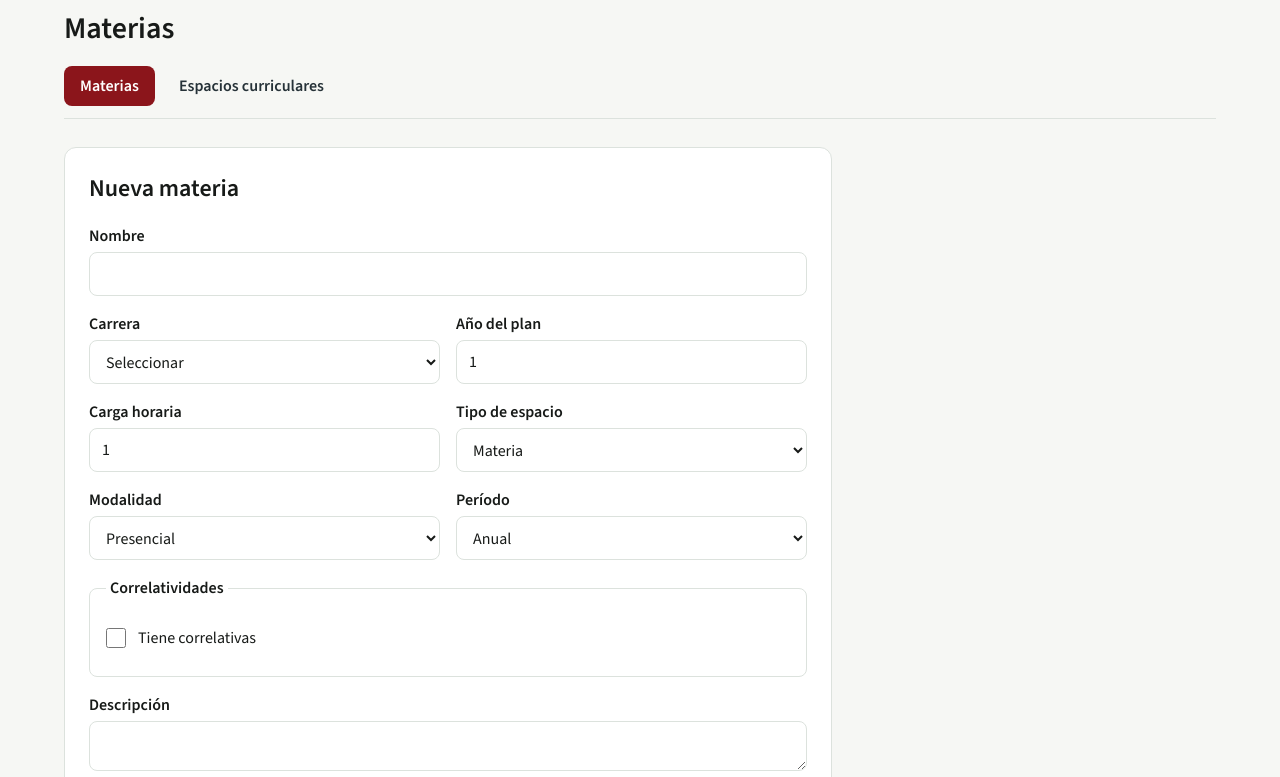
Scenario: AdminSubjectsView correlativity selector › adds Materia and Espacio curricular requirements through one name selector
expect the checkbox labelled "Tiene correlativas" is not checked: met, box [106, 628, 126, 648]
Select "Profesorado de Inicial" in the dropdown labelled "Carrera": (264, 362) [89, 340, 440, 384]
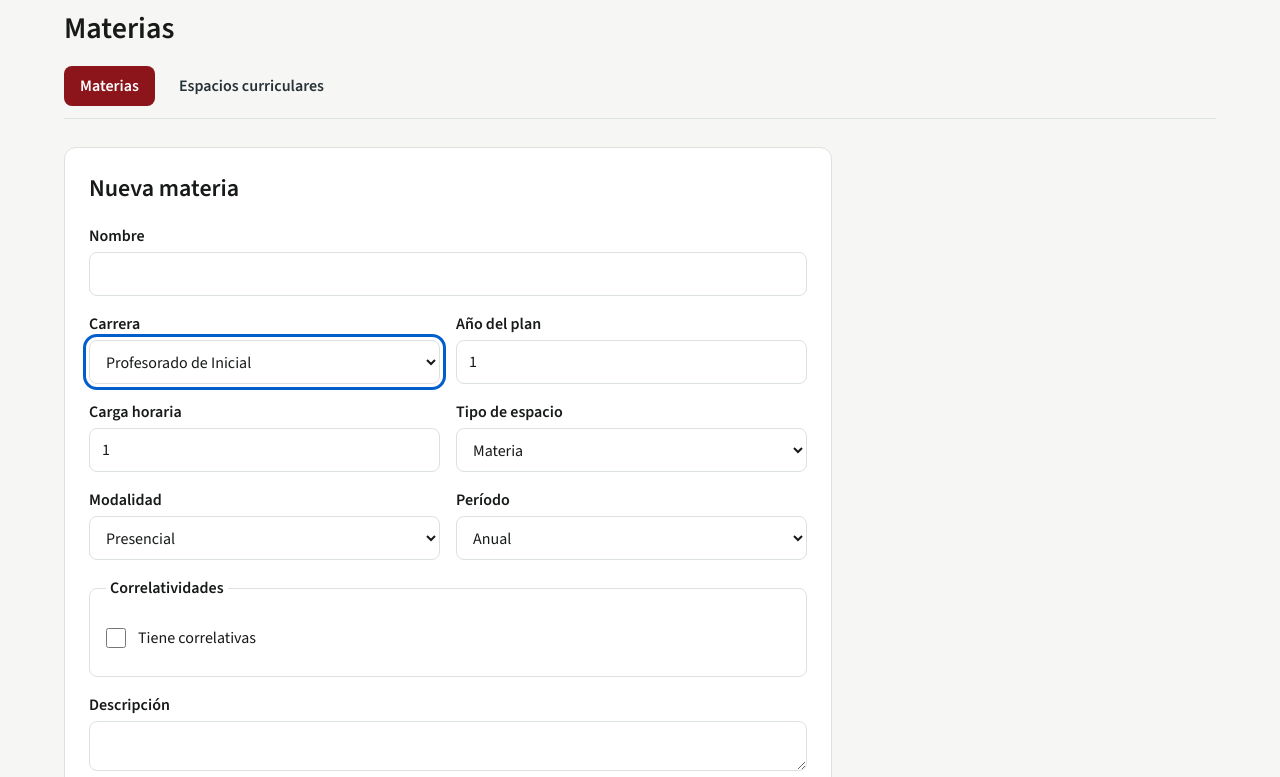
Click the checkbox labelled "Tiene correlativas": (116, 638) [106, 628, 126, 648]
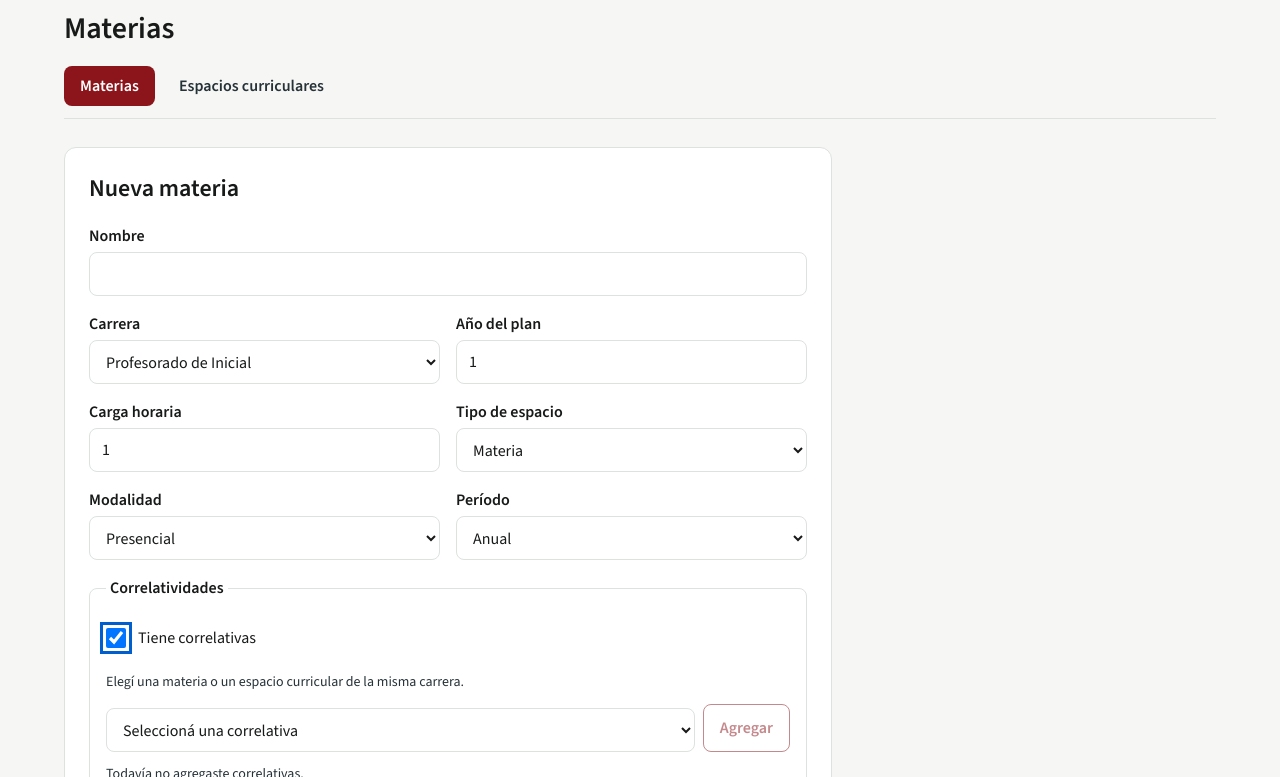
expect the dropdown named "Correlativa" shows "Seleccioná una correlativa": met
Select "Pedagogía" in the dropdown named "Correlativa": (400, 730) [106, 708, 695, 752]
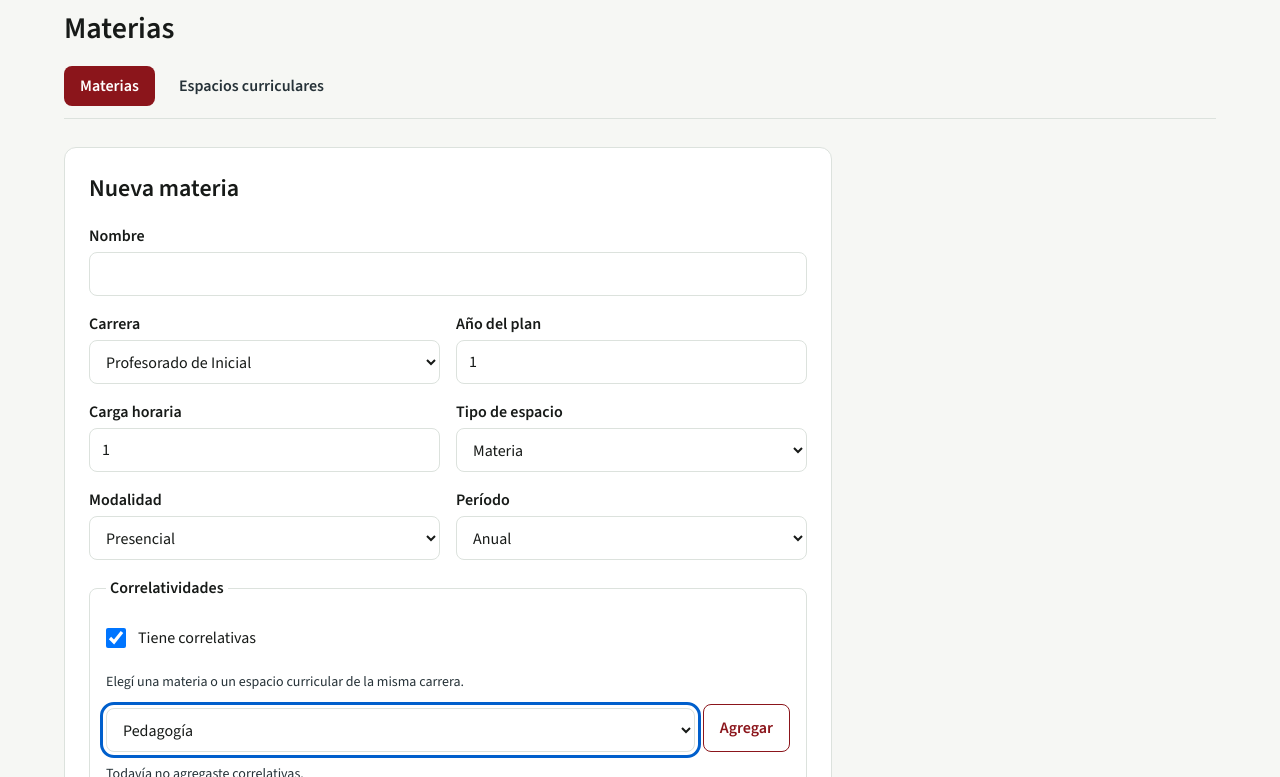
Click the button "Agregar": (746, 728) [703, 704, 790, 752]
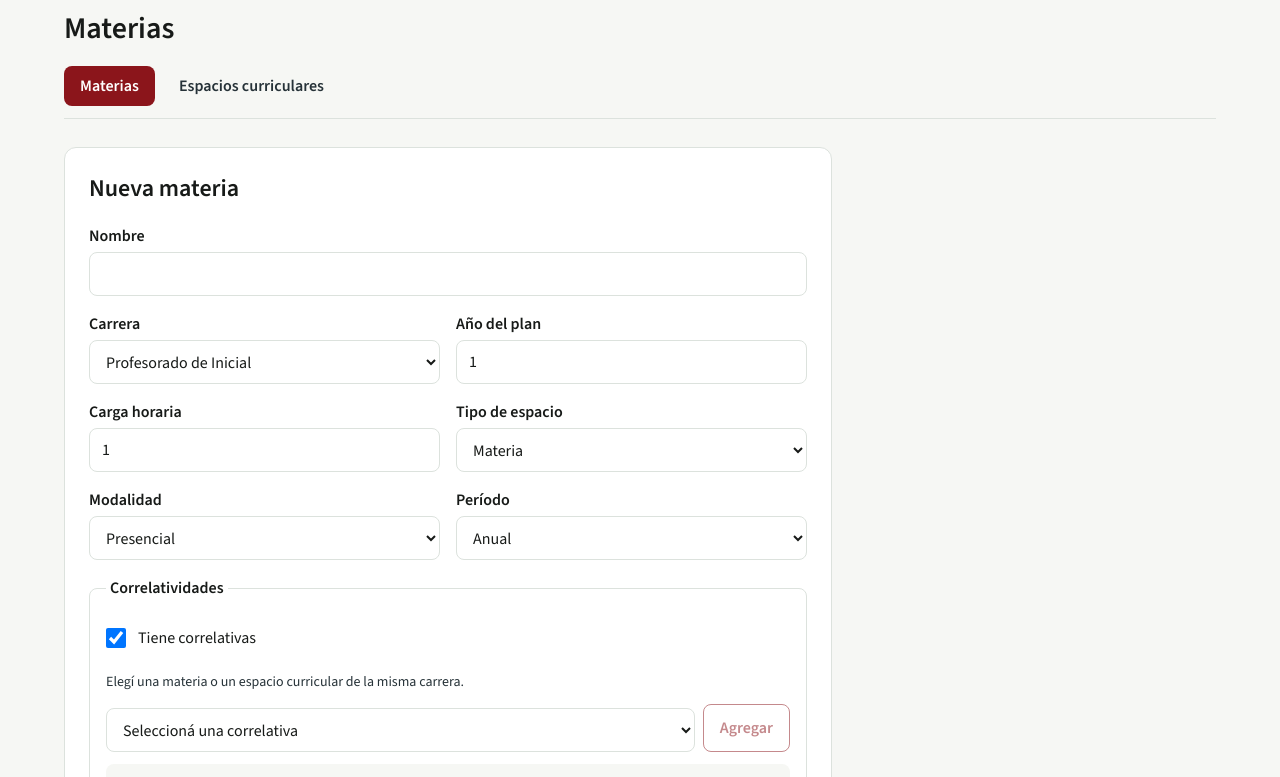
Select "Alfabetización" in the dropdown named "Correlativa": (400, 730) [106, 708, 695, 752]
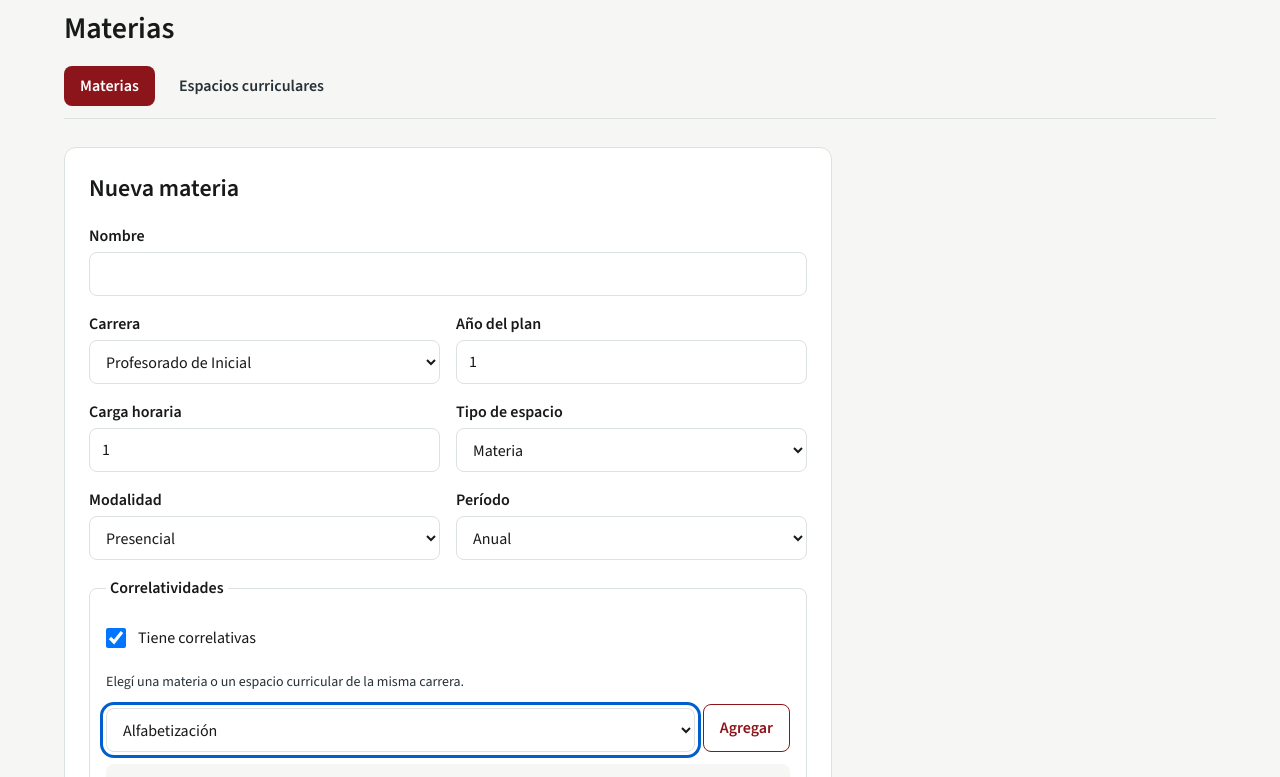
Click the button "Agregar": (746, 728) [703, 704, 790, 752]
(page scrolled)
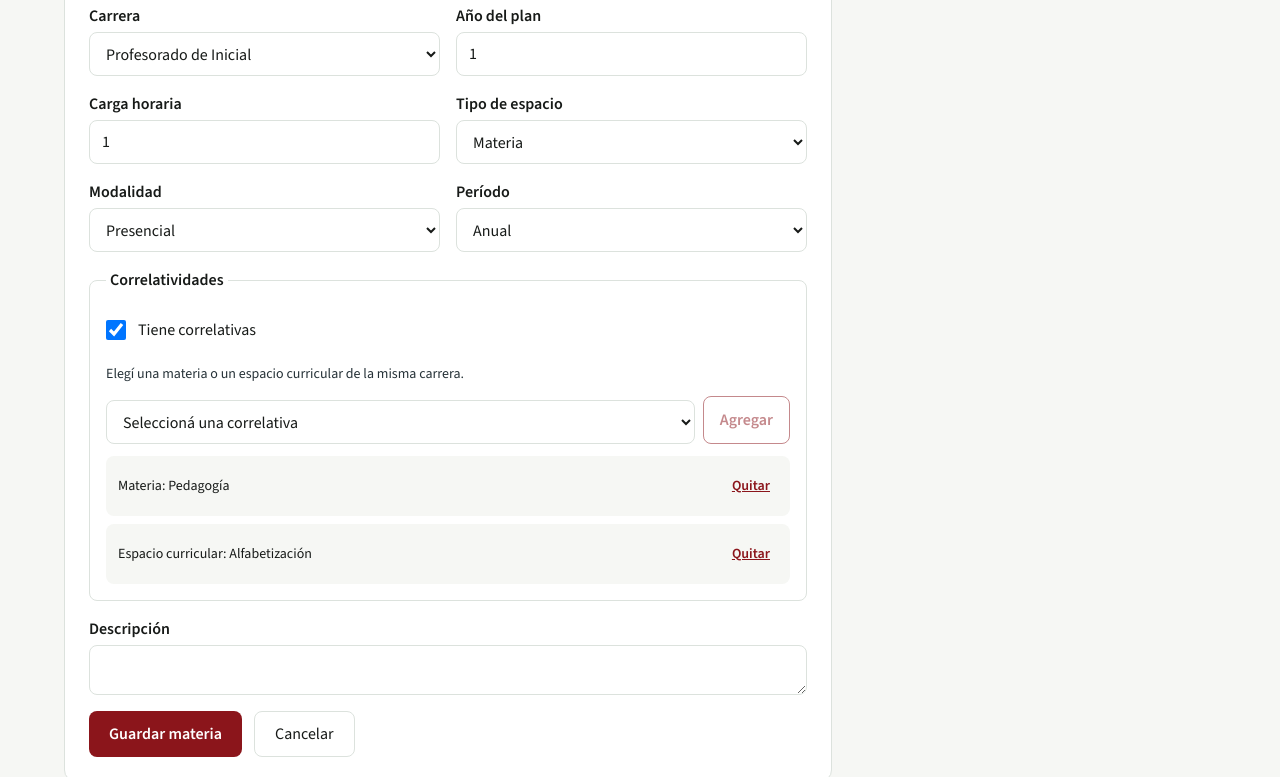
expect the text "Espacio curricular: Alfabetización" is shown: met, box [118, 544, 312, 564]
